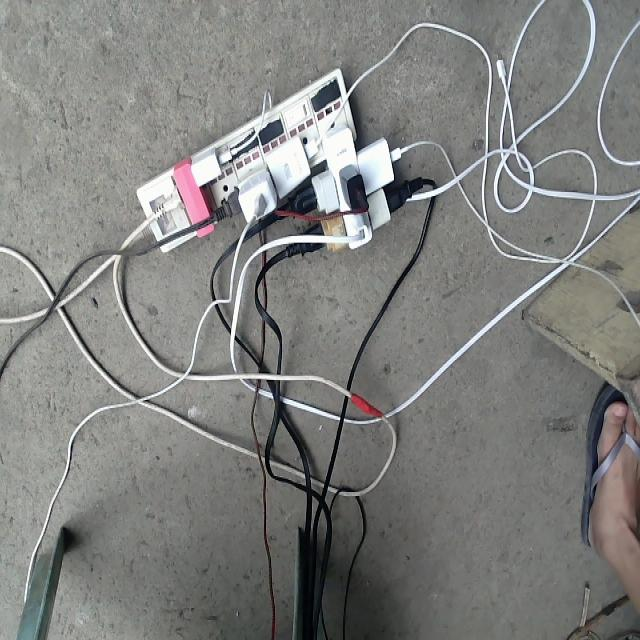-: (133, 64, 422, 260)
